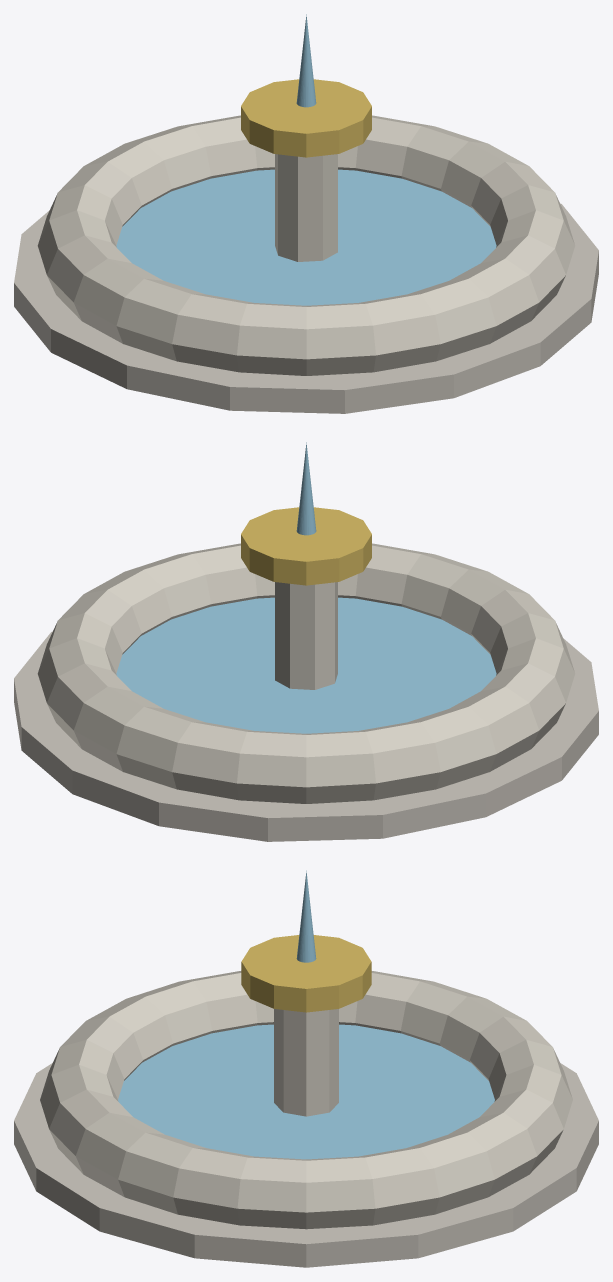
Rendered from fountain.glb.
3 renders of one model, top to bottom at view 1: azimuth 30°, elevation 25°; view 2: azimuth 150°, elevation 25°; view 3: azimuth 270°, elevation 25°, orthographic.
Visible parts, largest first — view 1: Fountain; view 2: Fountain; view 3: Fountain.
Part boxes in pixels (x1=…): Fountain: x1=14, y1=14, x2=598, y2=413; Fountain: x1=14, y1=442, x2=598, y2=841; Fountain: x1=14, y1=870, x2=598, y2=1267.
Size of the model in its own units: 1.8 by 0.93 by 1.8.
